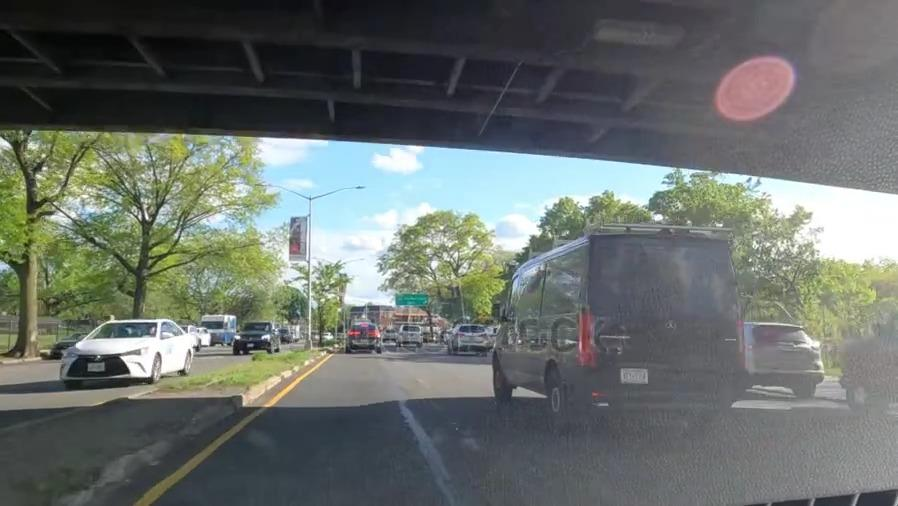car: (59, 314, 191, 379), (743, 314, 826, 401), (447, 318, 484, 356), (234, 319, 277, 351), (348, 322, 380, 353), (399, 322, 423, 347)
van: (489, 259, 745, 424)
wheel: (846, 371, 878, 416)
